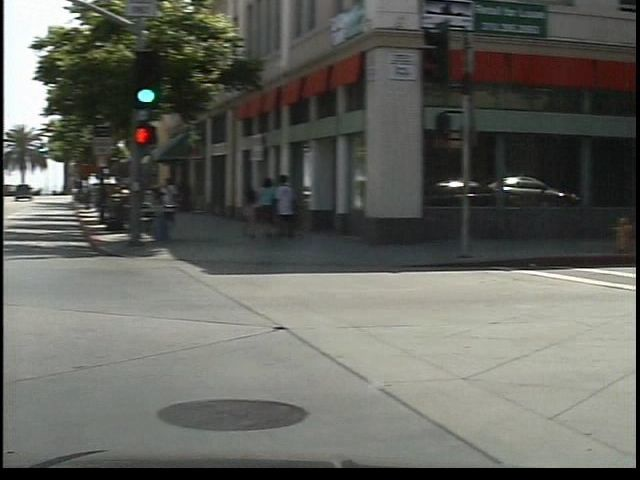person: (169, 171, 196, 236)
